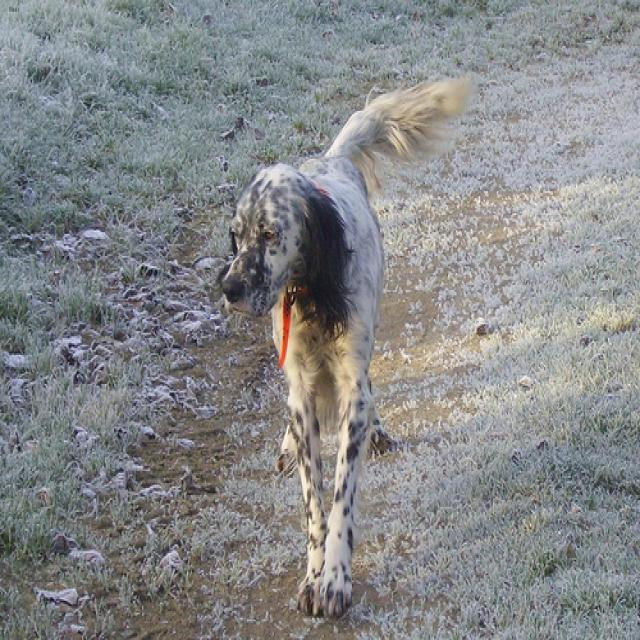dog-english_setter: (214, 67, 481, 625)
